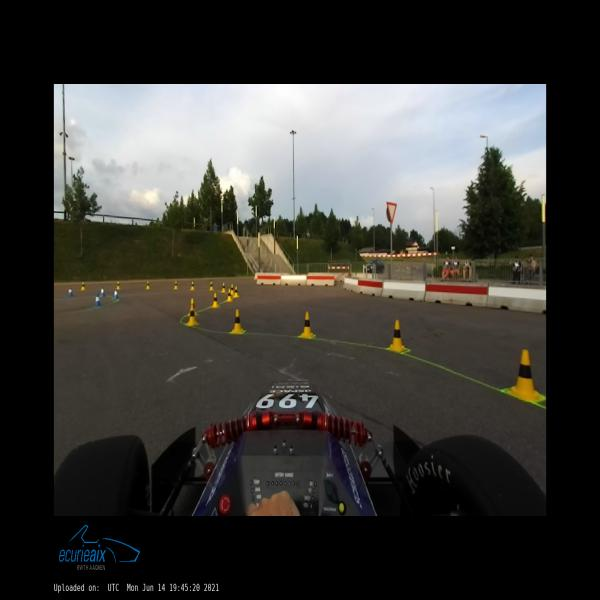blue_cone: (94, 293, 101, 306), (100, 286, 106, 296), (112, 290, 118, 300), (68, 288, 73, 296)
yellow_cone: (508, 349, 542, 401), (390, 320, 408, 352), (301, 311, 313, 338), (231, 310, 244, 334), (188, 305, 198, 325), (188, 298, 197, 316), (211, 293, 219, 307), (226, 289, 232, 301), (234, 286, 240, 297), (221, 282, 226, 292), (230, 284, 235, 294), (190, 281, 195, 290), (209, 281, 214, 290), (81, 281, 85, 290), (174, 281, 178, 289), (146, 281, 150, 289), (116, 282, 120, 290)
